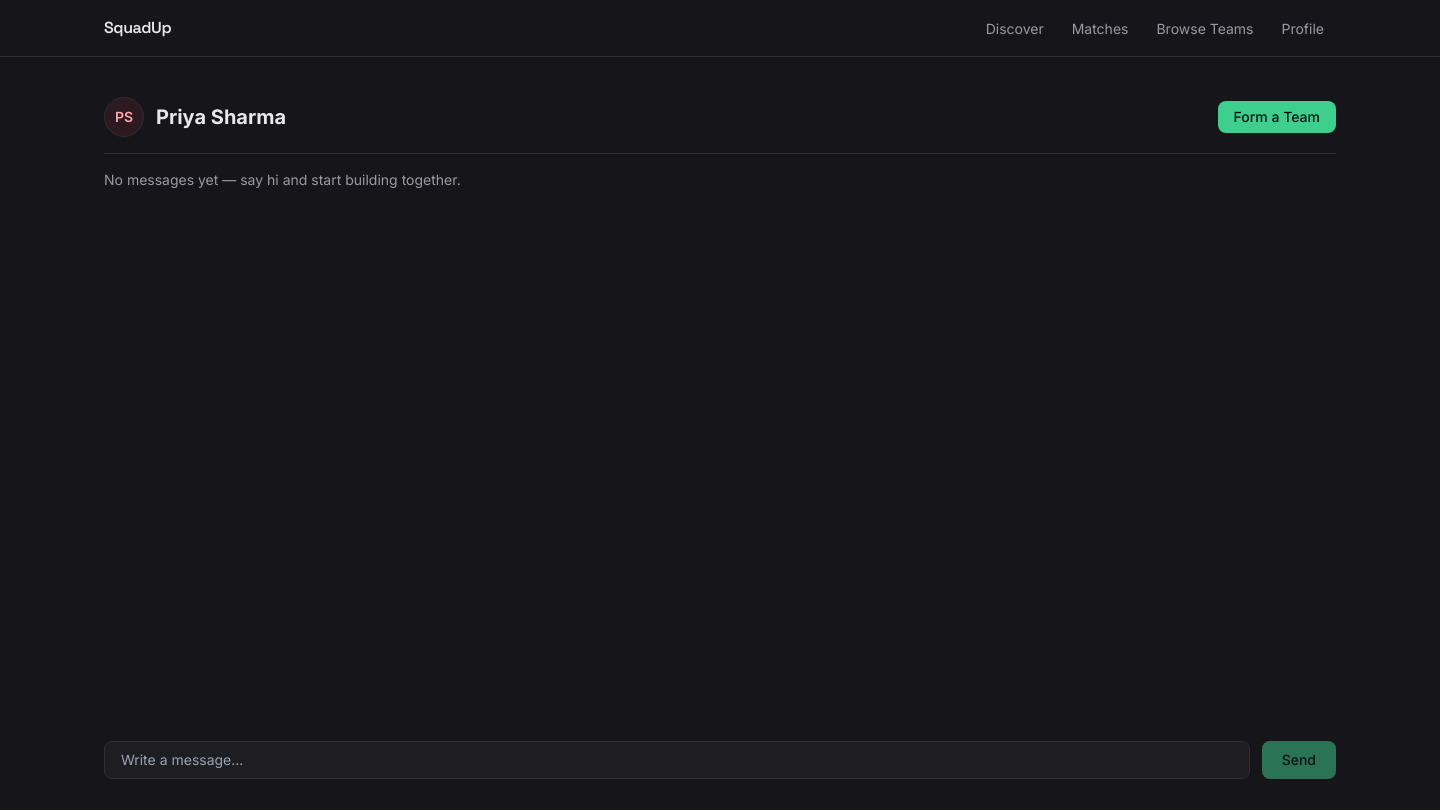
Match thread › does not render the same message twice when realtime replays a just-sent message
Type "Let's build!" into the field labelled "Write a message..." at (677, 760), box [104,741,1250,779]
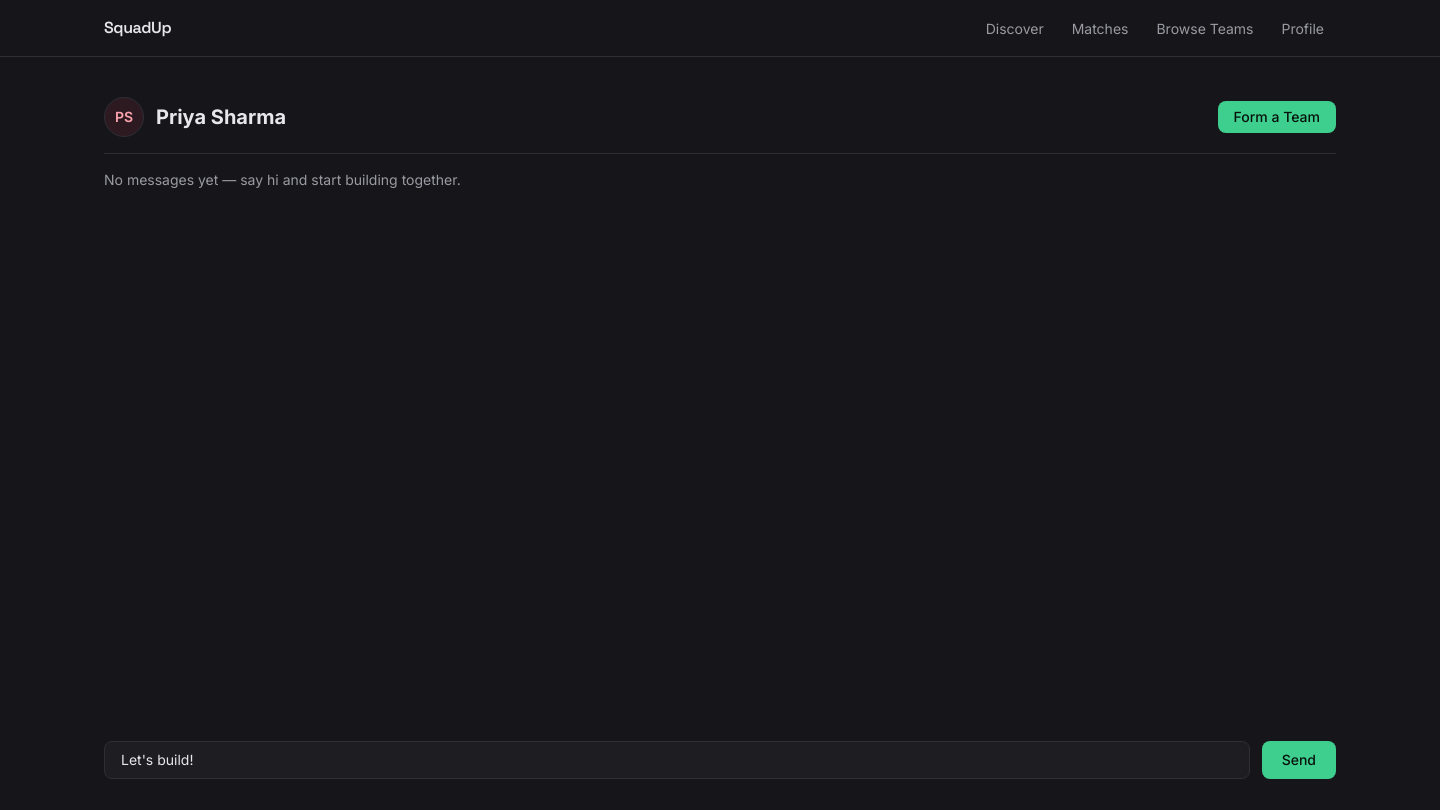
Click the button "Send" at (1299, 760), box [1262,741,1336,779]
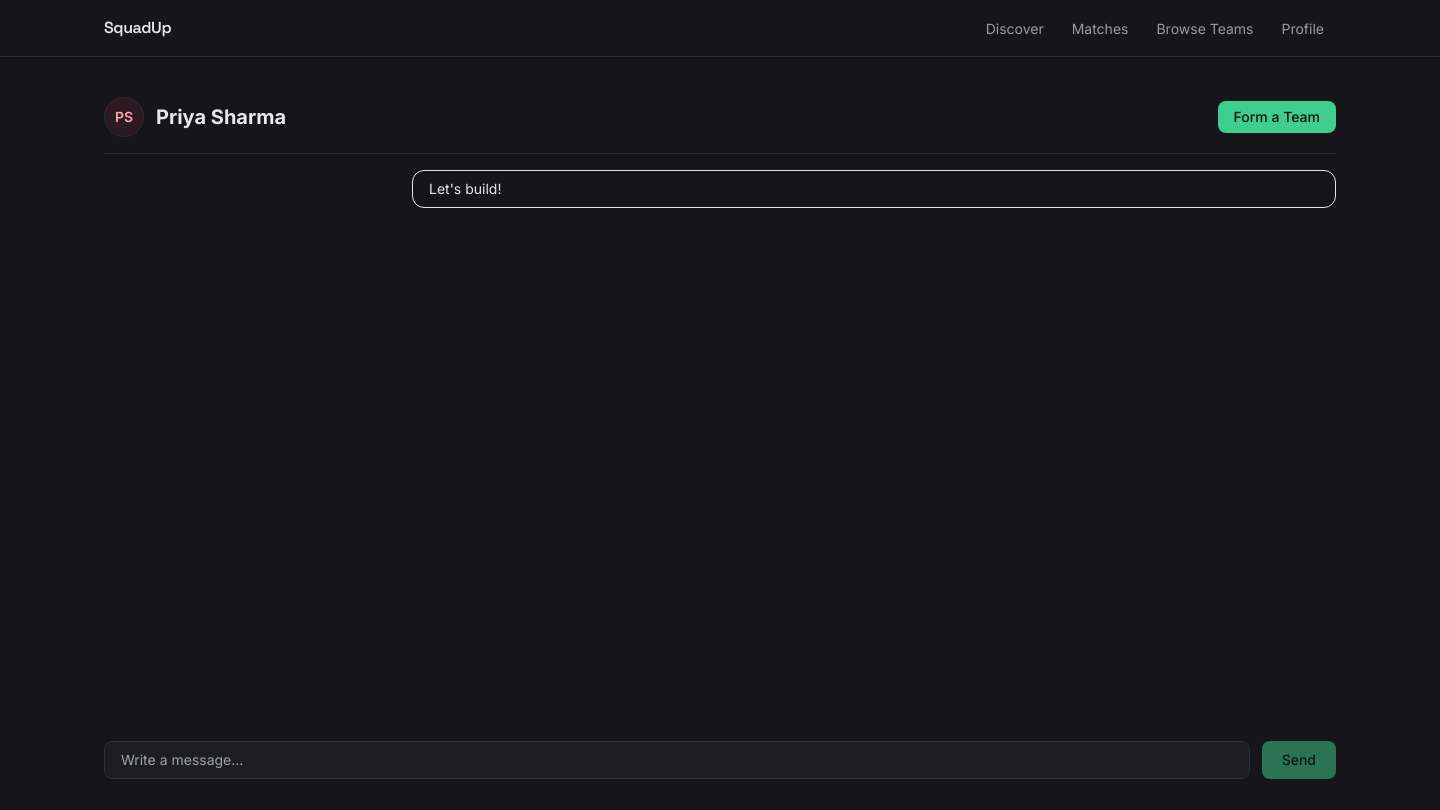
Expected: the text "Let's build!" is shown once, [412,170,1336,208]
